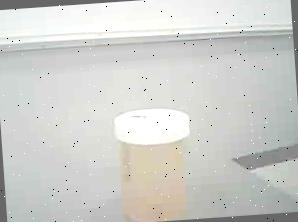Bottle B: (104, 101, 199, 222)
